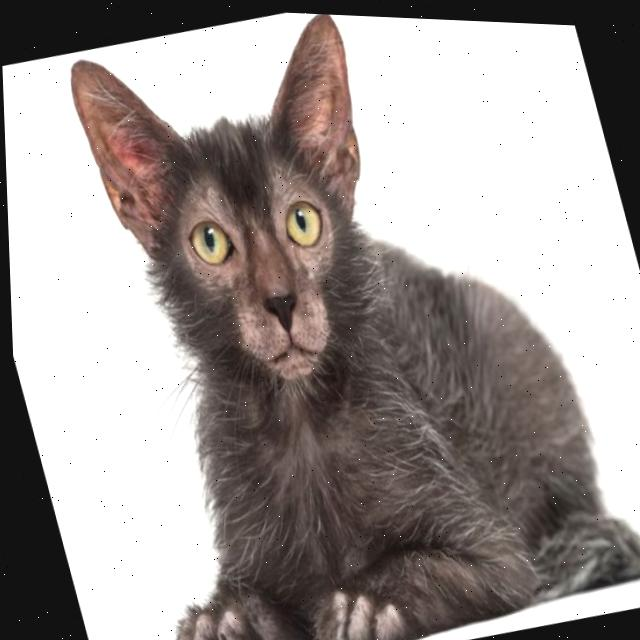Lykoi: (15, 1, 640, 640)
